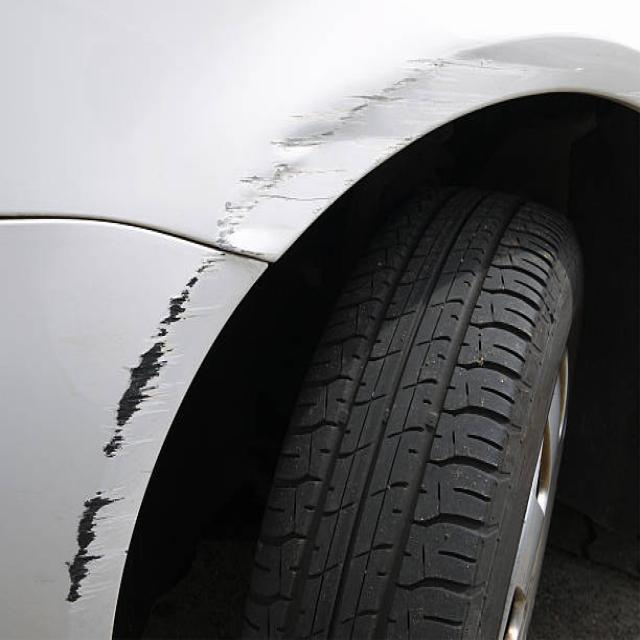scratch: (64, 184, 285, 621), (242, 48, 500, 197)
